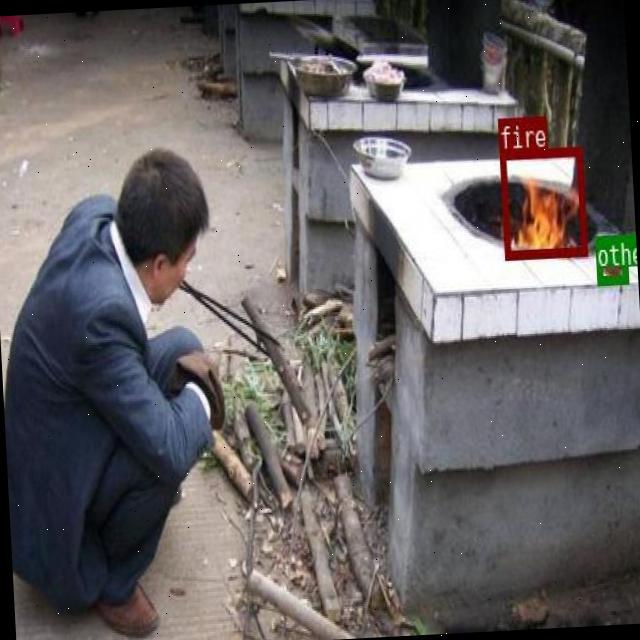fire: (499, 146, 587, 259)
